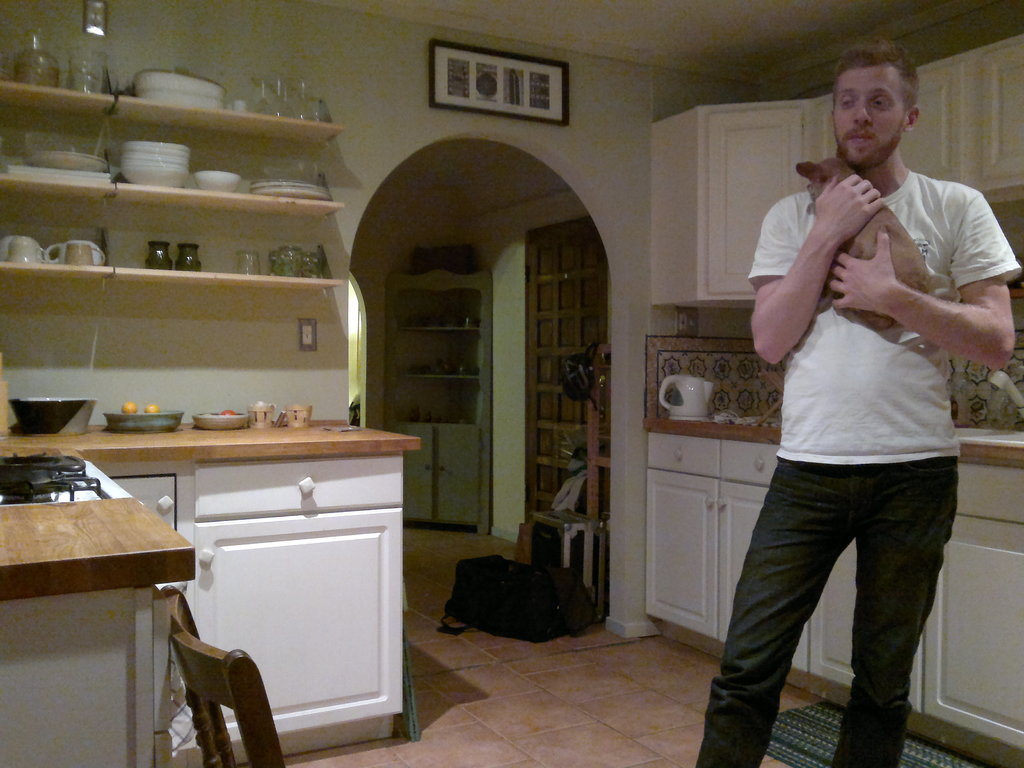Cabinetry: (117, 424, 426, 733), (646, 427, 780, 644)
